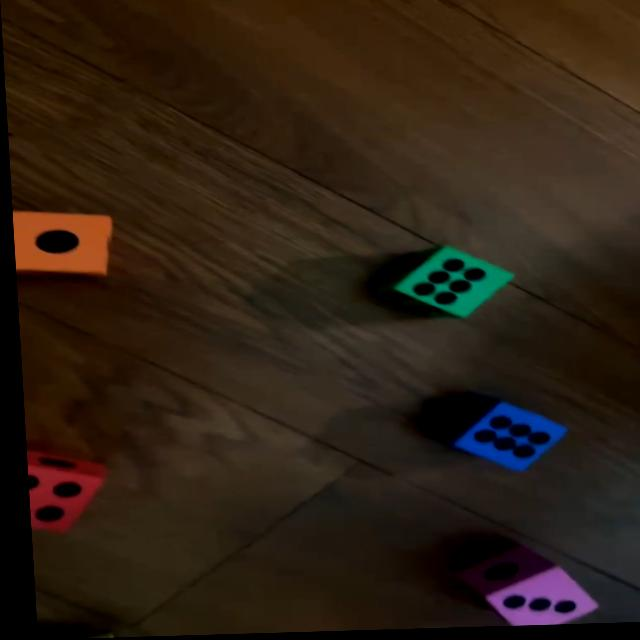blue_block: (420, 395, 563, 476)
red_block: (21, 448, 105, 532)
